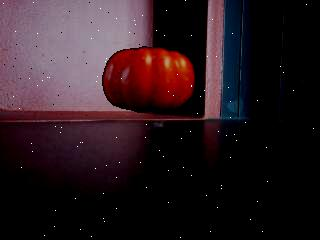Pumpkin: (102, 47, 197, 116)
